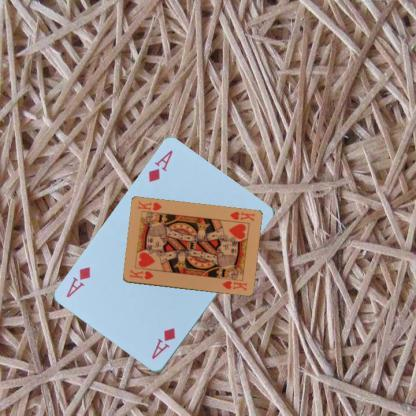Ad: (148, 325, 178, 361), (146, 148, 174, 184)
Kh: (226, 209, 256, 223), (127, 267, 155, 281)
